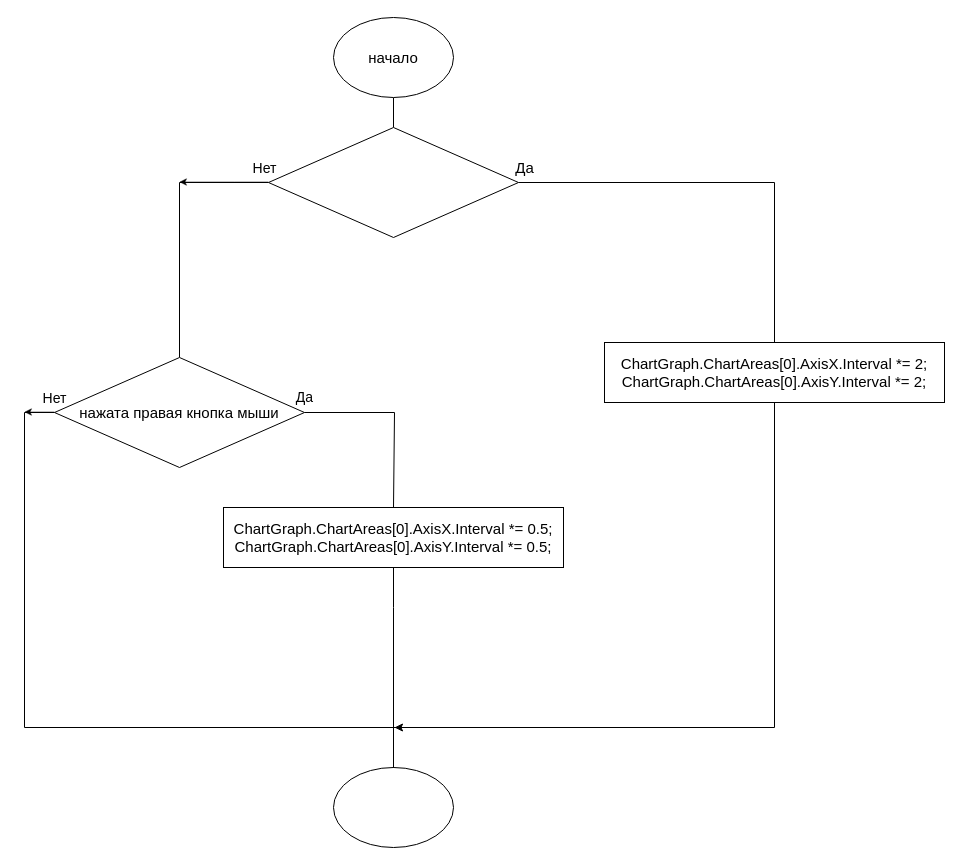
This 962x865 diagram has some shape labels left out. The centre of each missing label's shape, as x and y in pixels:
конец: [393,807]
нажата левая кнопка мыши: [393,182]
